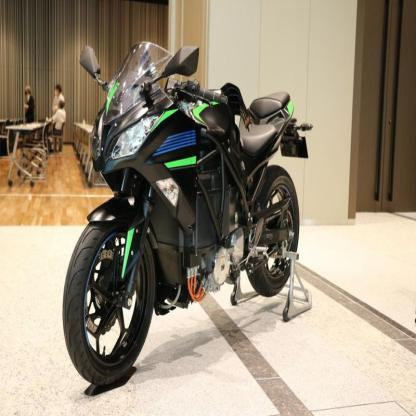Motorcycle: (60, 39, 310, 390)
